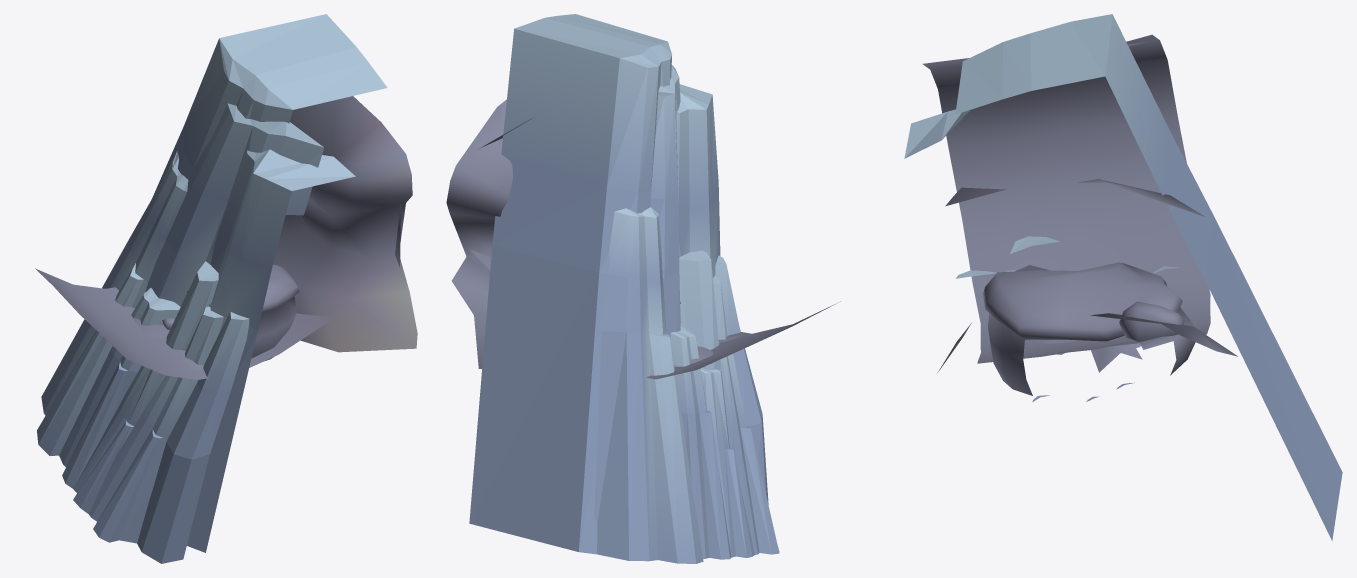
The model's file is Arctic_Luge_TunnelObstacle_Left_Mid_A.glb.
3 renders of one model, left to right at view 1: azimuth 30°, elevation 25°; view 2: azimuth 150°, elevation 25°; view 3: azimuth 270°, elevation 25°, orthographic. The views are drawn at different scales.
Visible parts, largest first — view 1: Arctic_Narrows_Left_IceWall_A01, Arctic_Luge_TunnelObstacle_Left_Mid_A, Arctic_Narrows_Left_IceWall_A01_Right, Arctic_Narrows_Left_IceWall_A01_Left, Arctic_Narrows_Left_IceWall_A01_Mid; view 2: Arctic_Narrows_Left_IceWall_A01, Arctic_Narrows_Left_IceWall_A01_Left, Arctic_Narrows_Left_IceWall_A01_Right, Arctic_Luge_TunnelObstacle_Left_Mid_A, Arctic_Narrows_Left_IceWall_A01_Mid; view 3: Arctic_Luge_TunnelObstacle_Left_Mid_A, Arctic_Narrows_Left_IceWall_A01.
Part boxes in pixels (x1,y1,x2,y2): Arctic_Narrows_Left_IceWall_A01: (145, 14, 387, 552); Arctic_Luge_TunnelObstacle_Left_Mid_A: (35, 96, 417, 379); Arctic_Narrows_Left_IceWall_A01_Right: (73, 311, 249, 563); Arctic_Narrows_Left_IceWall_A01_Left: (37, 151, 188, 455); Arctic_Narrows_Left_IceWall_A01_Mid: (59, 288, 180, 488); Arctic_Narrows_Left_IceWall_A01: (469, 14, 727, 554); Arctic_Narrows_Left_IceWall_A01_Left: (594, 207, 703, 563); Arctic_Narrows_Left_IceWall_A01_Right: (700, 255, 779, 557); Arctic_Luge_TunnelObstacle_Left_Mid_A: (446, 99, 840, 379); Arctic_Narrows_Left_IceWall_A01_Mid: (670, 323, 731, 559); Arctic_Luge_TunnelObstacle_Left_Mid_A: (923, 34, 1237, 395); Arctic_Narrows_Left_IceWall_A01: (904, 14, 1342, 540).
Size of what is drawn, in the model's own units: 4.6 by 6.93 by 4.7.
